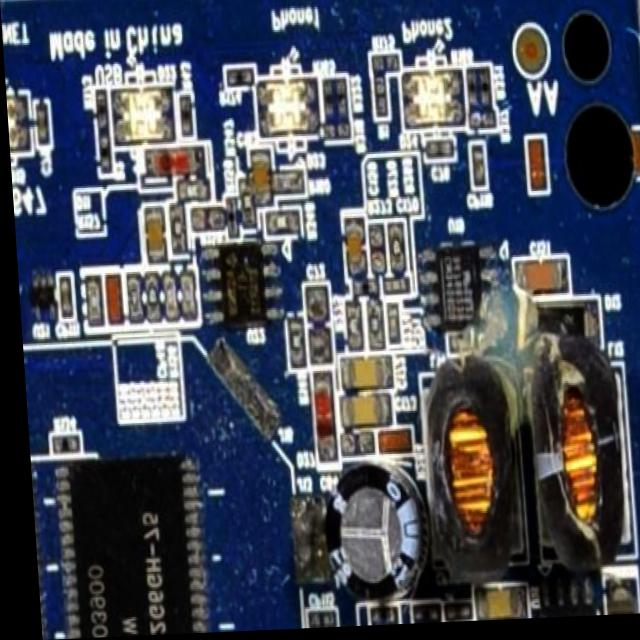IC: (52, 456, 200, 639), (415, 230, 496, 339), (200, 245, 278, 332), (531, 587, 594, 623), (25, 464, 36, 640), (22, 272, 51, 322)
capacitor: (330, 396, 387, 431), (465, 589, 519, 624), (515, 264, 565, 299), (339, 217, 363, 280), (335, 366, 388, 394), (246, 149, 271, 207), (139, 209, 164, 262), (53, 273, 74, 320), (381, 304, 397, 347), (34, 100, 47, 144), (377, 281, 405, 298), (423, 145, 451, 162)
resistor: (256, 210, 299, 236), (164, 204, 184, 256), (365, 230, 385, 280), (121, 270, 139, 325), (339, 303, 358, 355), (386, 223, 404, 274), (174, 271, 193, 319), (176, 95, 194, 144), (281, 322, 299, 370), (142, 272, 157, 325), (159, 273, 175, 322), (81, 278, 97, 325), (221, 68, 254, 90), (372, 76, 387, 123), (362, 306, 377, 350), (368, 57, 401, 77), (174, 182, 206, 202), (476, 71, 491, 113), (97, 136, 112, 177), (45, 434, 75, 454), (332, 82, 347, 120), (320, 81, 333, 124), (465, 115, 495, 133), (94, 90, 107, 128), (237, 185, 248, 229), (223, 201, 234, 245), (464, 70, 474, 113), (319, 126, 347, 141), (417, 603, 434, 627), (402, 604, 416, 627), (373, 609, 386, 628), (362, 609, 373, 629)
